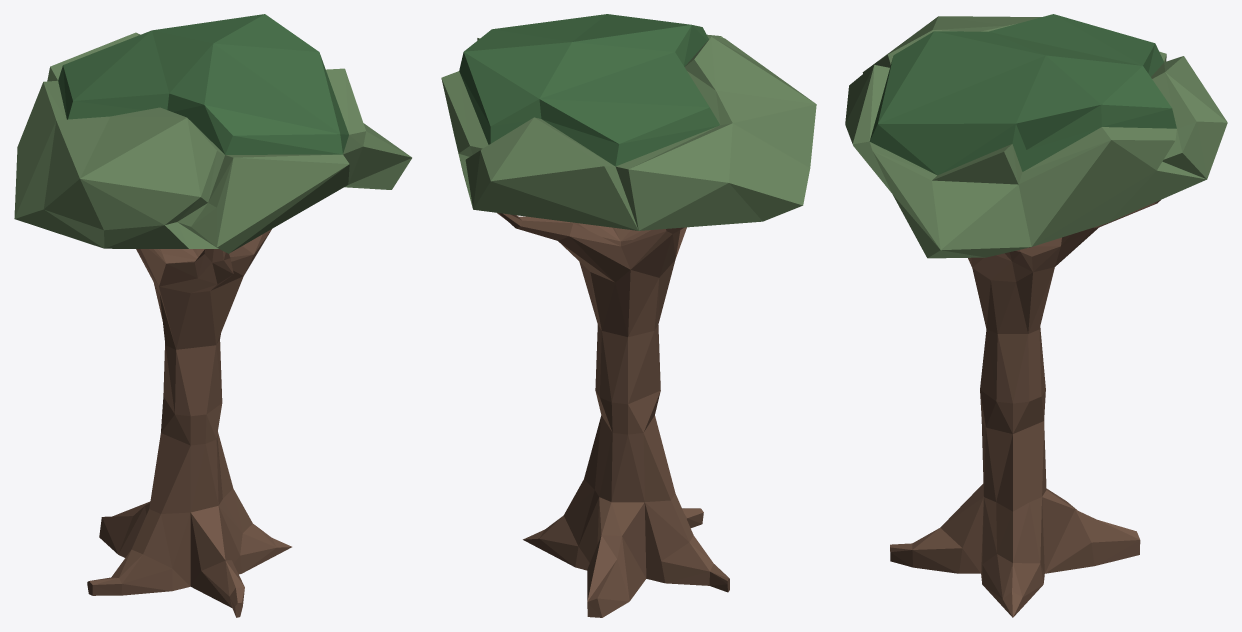
File: _tree_13.fbx
The picture shows the model from 3 angles, left to right: view 1: azimuth 30°, elevation 25°; view 2: azimuth 150°, elevation 25°; view 3: azimuth 270°, elevation 25°; orthographic projection. The views are drawn at different scales.
Parts seen in each view (by area): view 1: tree_13; view 2: tree_13; view 3: tree_13.
Part boxes in pixels (x1,y1,x2,y2): tree_13: (14,14,411,617); tree_13: (441,14,816,617); tree_13: (845,14,1227,617).
Bounding box in the file's own units: 700 × 943 × 617.
